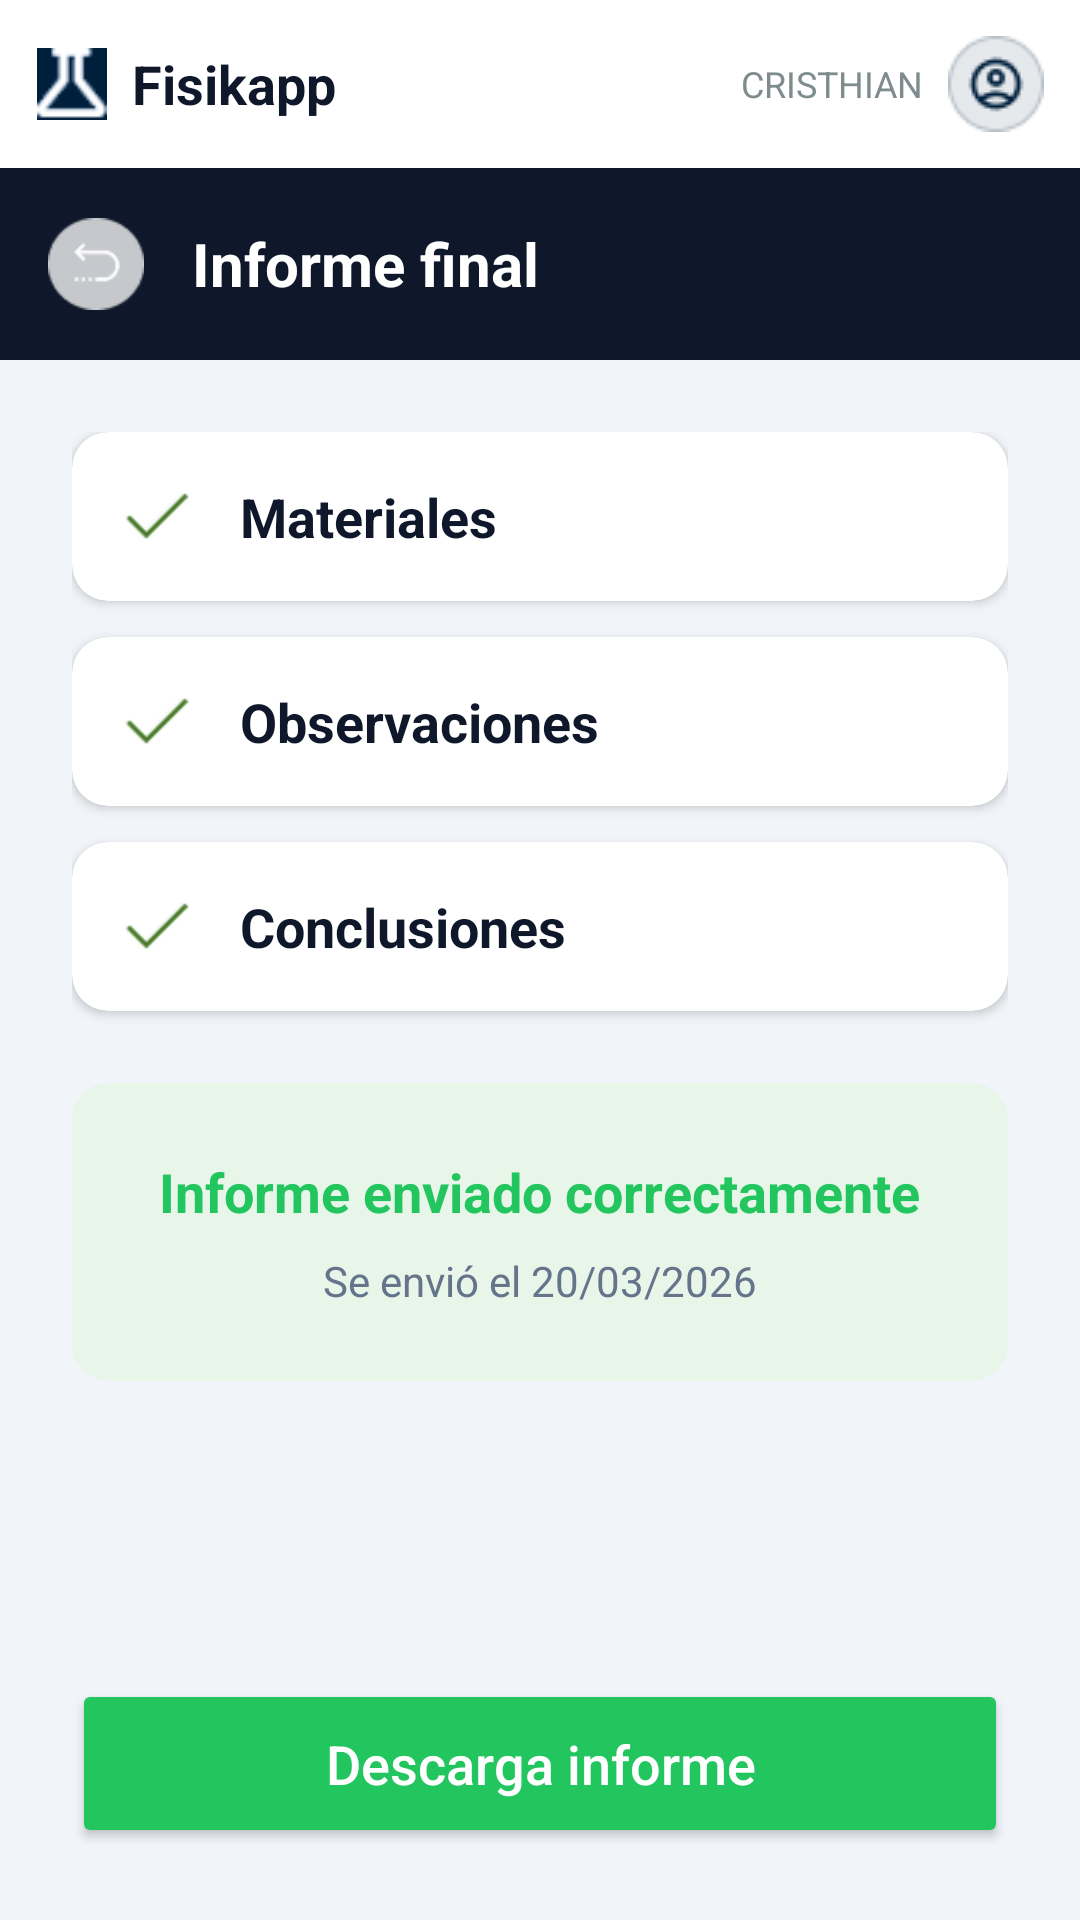

Named icons in this screenshot (1080 × 1920) and their centers, point (x, y):
chulo: point (157, 516), point (157, 721), point (157, 926)
iconofisik: point (72, 84)
iconoretroceder: point (96, 264)
iconousuario: point (996, 84)
